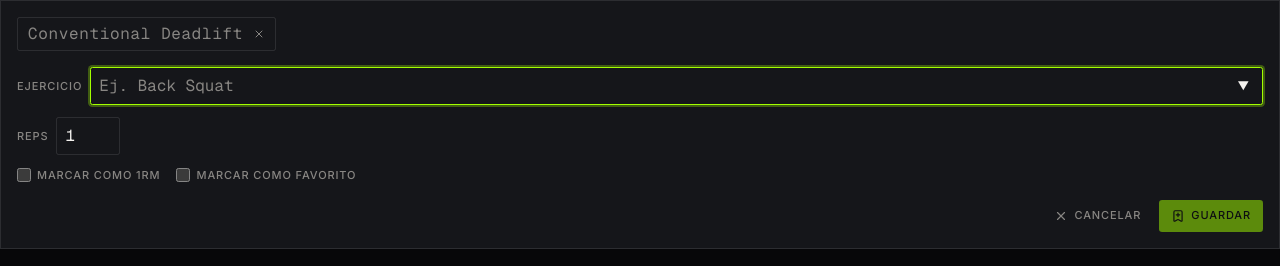
Test: SaveRecordForm — issue 0044 favorites › clicking a chip fills the input with the favorite name
Step 1. Click the button with aria-label "Seleccionar Conventional Deadlift" → (136, 34), box x1=28 y1=22 x2=243 y2=46
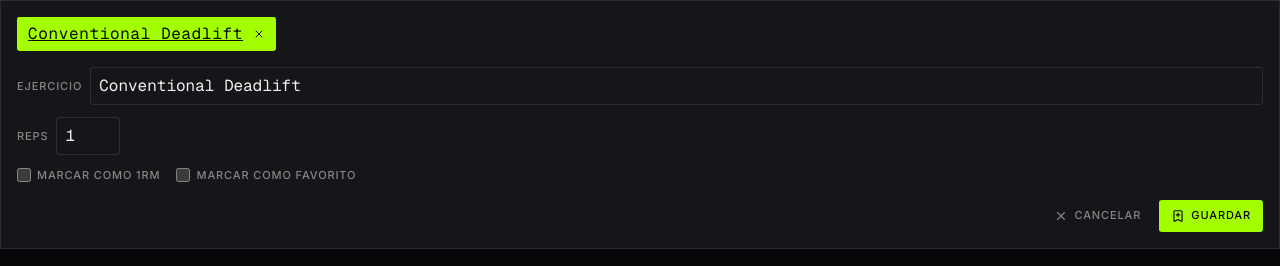
expect the field with placeholder "Ej. Back Squat" holds "Conventional Deadlift": met, box x1=90 y1=67 x2=1263 y2=105
